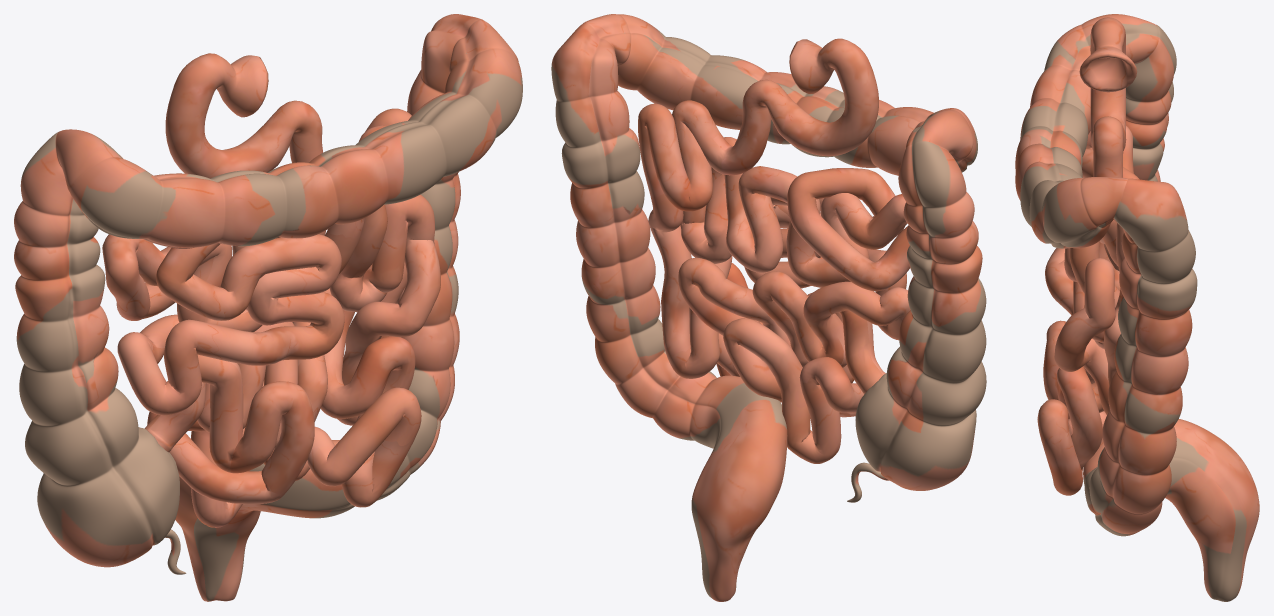
File: Tarmpaket Sketchfab 1.FBX
3 views of the same model, side by side, from view 1: azimuth 30°, elevation 25°; view 2: azimuth 150°, elevation 25°; view 3: azimuth 270°, elevation 25° (orthographic). The views are drawn at different scales.
Visible parts, largest first — view 1: Tjocktarm, Tunntarm; view 2: Tjocktarm, Tunntarm; view 3: Tjocktarm, Tunntarm.
Part boxes in pixels (x1,y1,x2,y2): Tjocktarm: (14, 14, 522, 601); Tunntarm: (102, 53, 440, 527); Tjocktarm: (551, 14, 986, 601); Tunntarm: (638, 38, 910, 463); Tjocktarm: (1015, 14, 1259, 601); Tunntarm: (1037, 17, 1139, 495).
Bounding box in the file's own units: 40.87 × 49.79 × 20.17.
